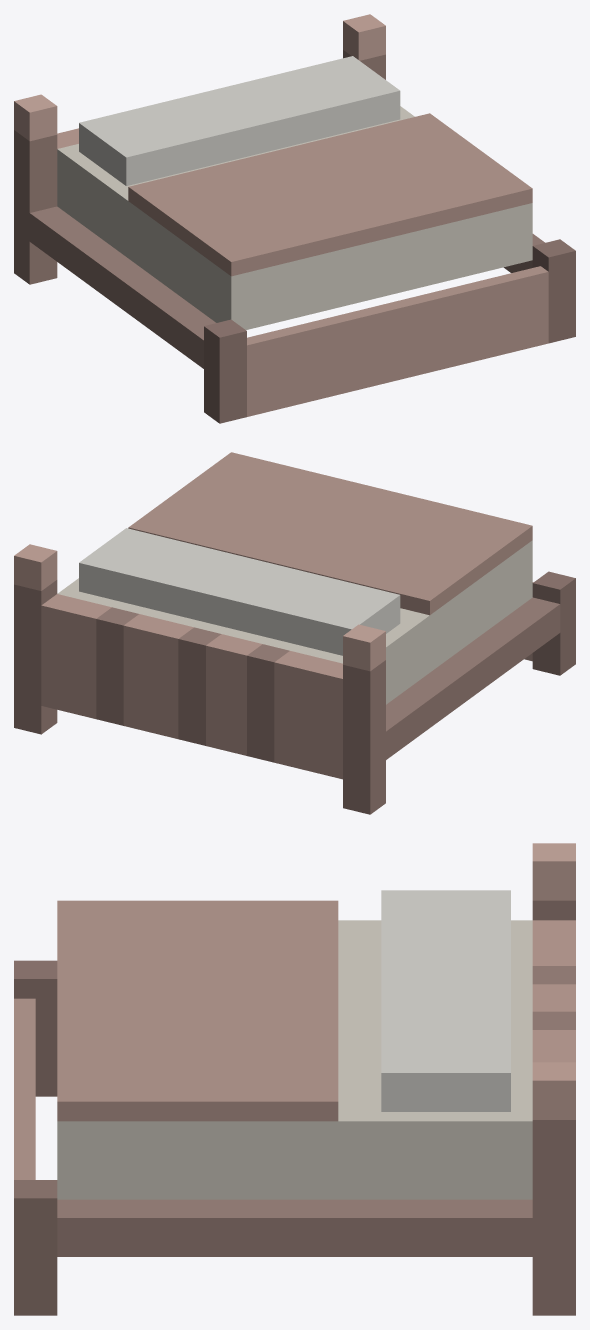
Rendered from cama_doble_desgastada_01.glb.
The picture shows the model from 3 angles, top to bottom: view 1: azimuth 30°, elevation 25°; view 2: azimuth 150°, elevation 25°; view 3: azimuth 270°, elevation 25°; orthographic projection. The views are drawn at different scales.
Parts seen in each view (by area): view 1: cama_doble_desgastada; view 2: cama_doble_desgastada; view 3: cama_doble_desgastada.
Boxes of the visible parts, <box> form: cama_doble_desgastada: <box>14,14,575,423</box>; cama_doble_desgastada: <box>14,452,575,814</box>; cama_doble_desgastada: <box>14,843,575,1315</box>.
Bounding box in the file's own units: 2 × 0.9231 × 2.
